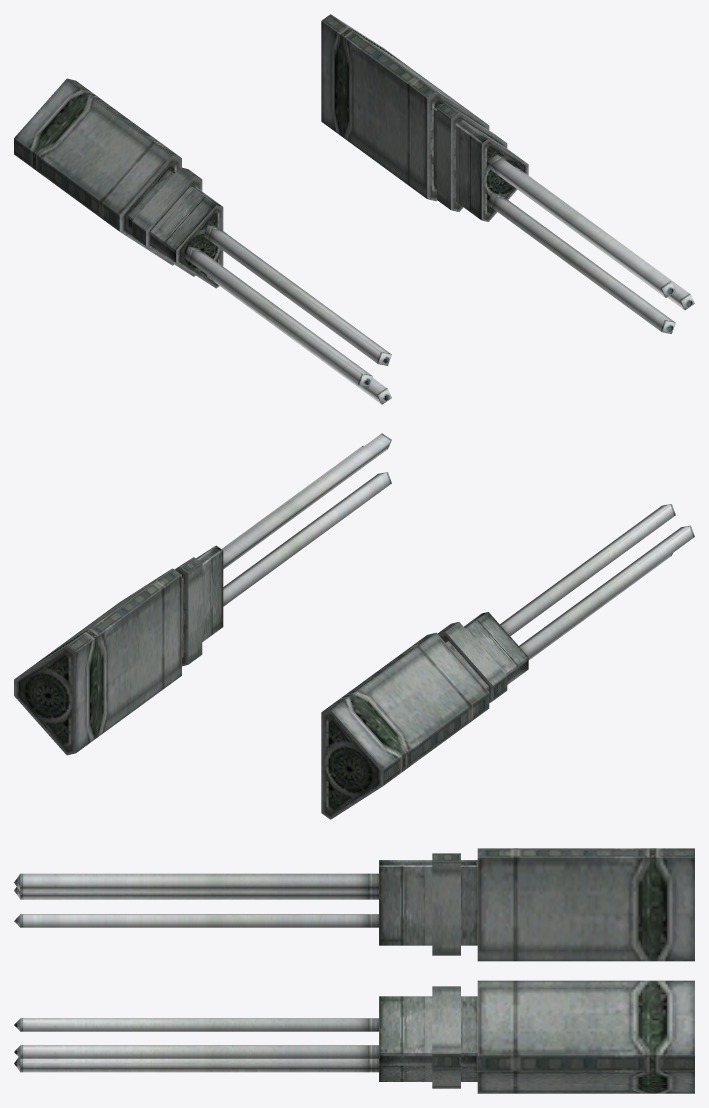
The model's file is bwing_weapon1_s04_l1.fbx.
3 renders of one model, top to bottom at view 1: azimuth 30°, elevation 25°; view 2: azimuth 150°, elevation 25°; view 3: azimuth 270°, elevation 25°, orthographic. The views are drawn at different scales.
Parts seen in each view (by area): view 1: mesh_node; view 2: mesh_node; view 3: mesh_node.
Part boxes in pixels (bbox=[...]): mesh_node: bbox=[14, 14, 694, 404]; mesh_node: bbox=[14, 433, 694, 819]; mesh_node: bbox=[14, 848, 694, 1093].
Size of the model in its own units: 0.9021 by 0.2562 by 1.4.
